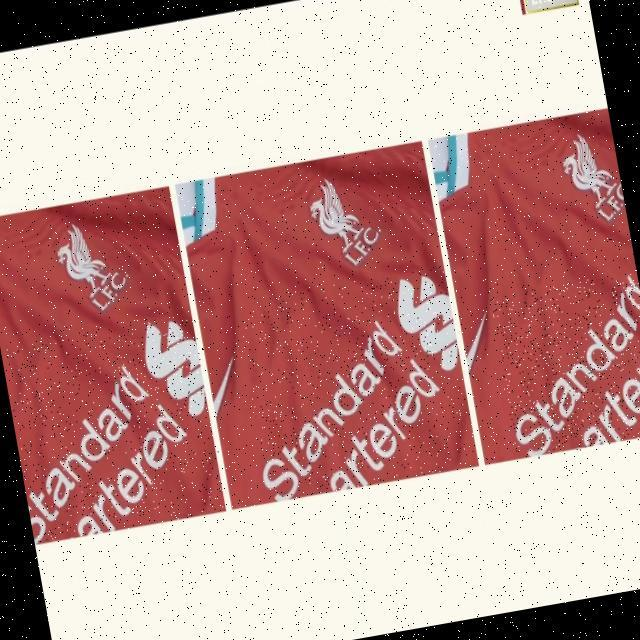Standard Chartered: (234, 265, 479, 502), (1, 312, 229, 544), (487, 270, 640, 462)
